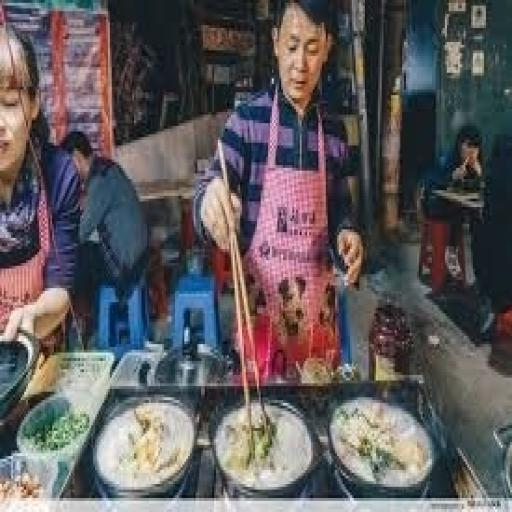eating: (190, 0, 367, 378)
